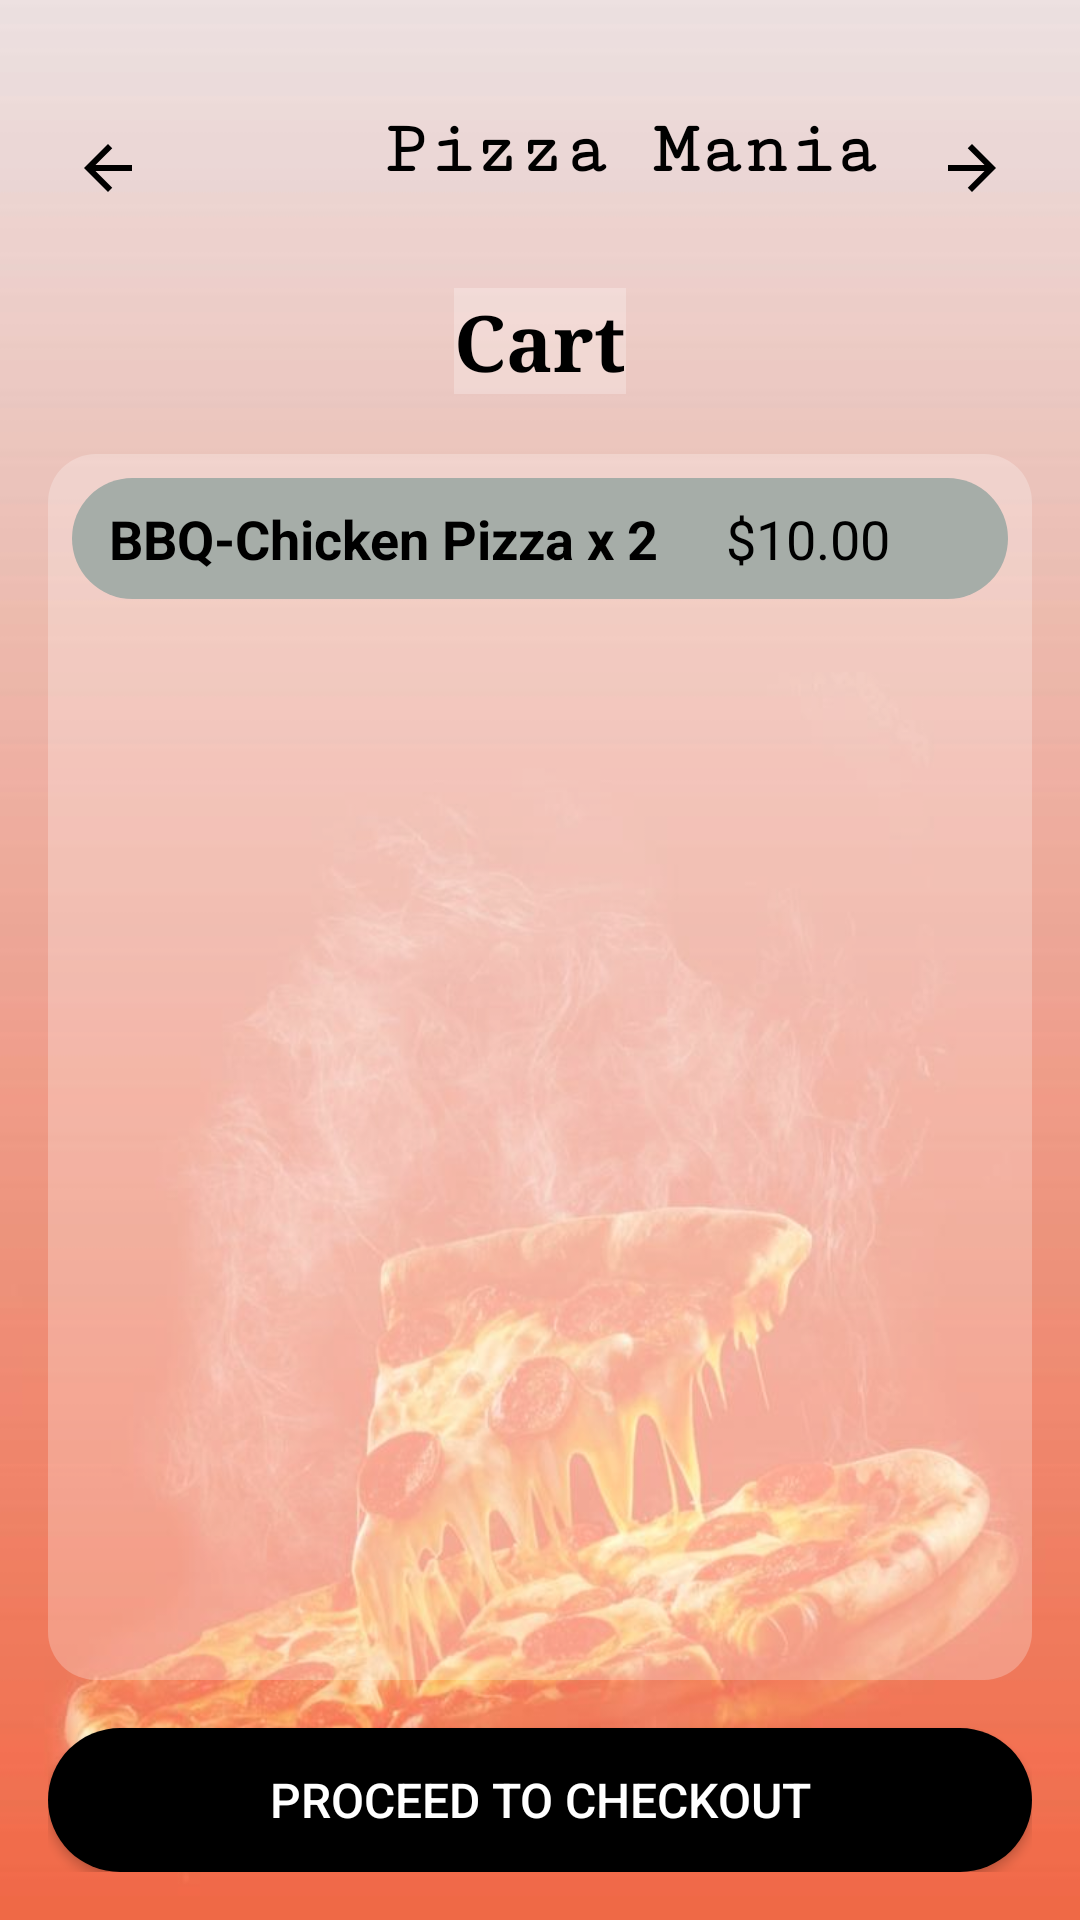

Named icons in this screenshot (1080px x 1920px) and their centers, (x=x, y=y):
Back: (x=108, y=168)
Next: (x=972, y=168)
